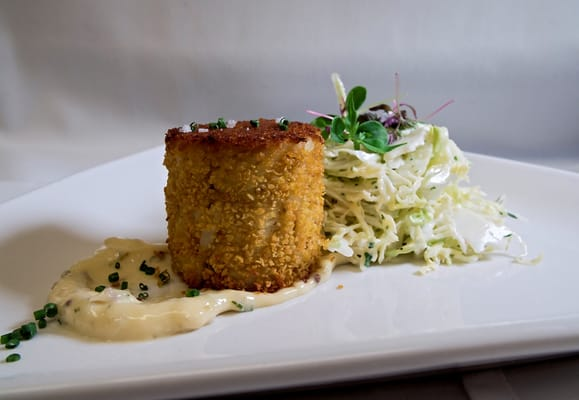sushi: (154, 71, 527, 289), (161, 117, 329, 292)
